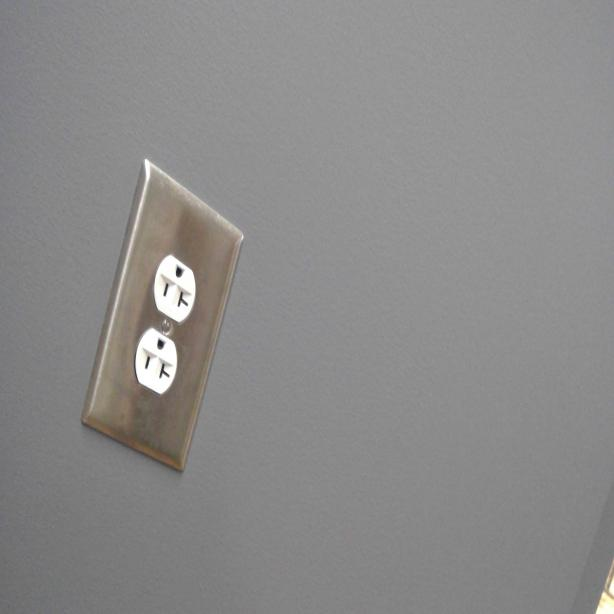typeb: (156, 259, 191, 312), (139, 336, 171, 390)
